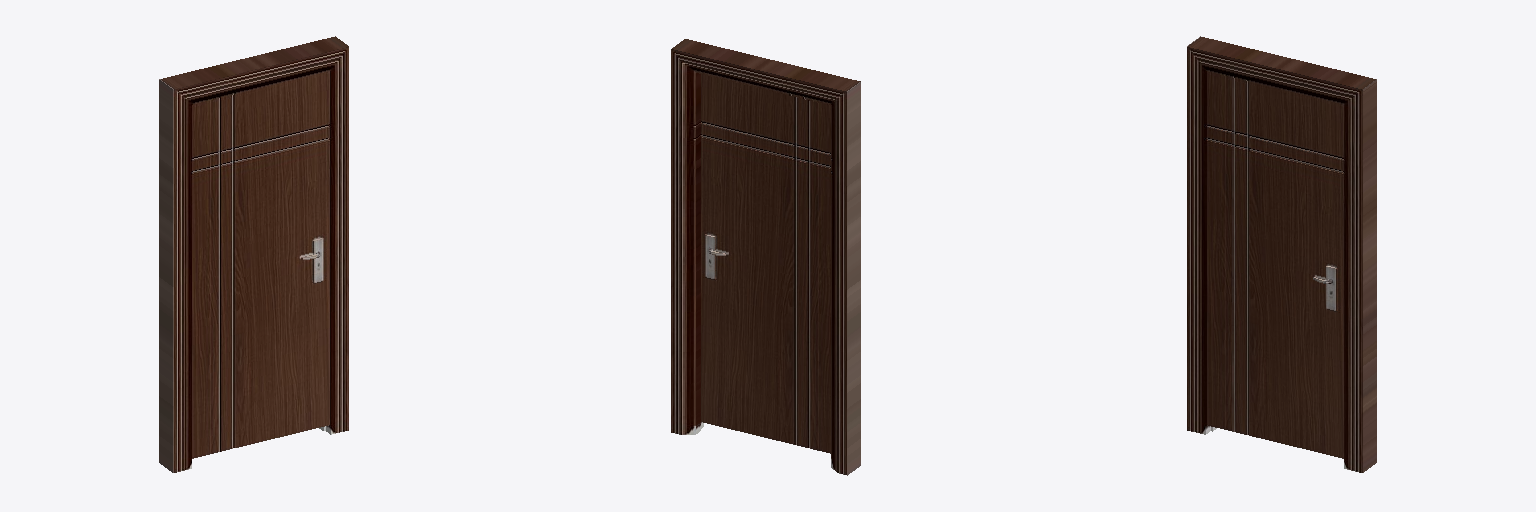
3 views of the same model, side by side, from view 1: azimuth 30°, elevation 25°; view 2: azimuth 150°, elevation 25°; view 3: azimuth 330°, elevation 25° (orthographic).
Parts seen in each view (by area): view 1: group_1.001_ID17.002, group_2_ID66.002; view 2: group_1.001_ID17.002, group_2_ID66.002; view 3: group_1.001_ID17.002, group_2_ID66.002.
Boxes of the visible parts, x1,y1,x2,y2 form: group_1.001_ID17.002: [192, 71, 329, 458]; group_2_ID66.002: [159, 36, 348, 472]; group_1.001_ID17.002: [701, 74, 830, 453]; group_2_ID66.002: [671, 39, 860, 475]; group_1.001_ID17.002: [1206, 71, 1343, 458]; group_2_ID66.002: [1187, 36, 1376, 472].
Bounding box in the file's own units: 3.35 × 6.98 × 0.5687.
Materials: 1 (1 with a texture image).